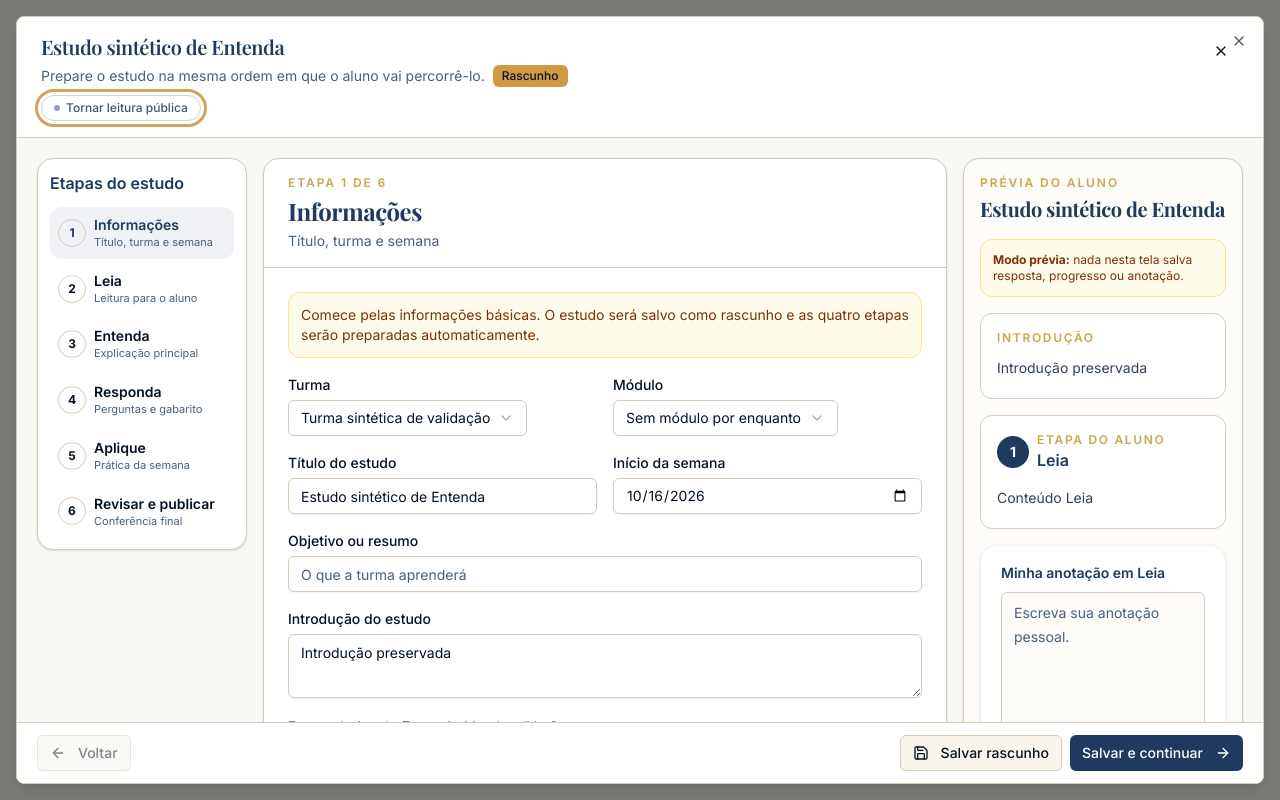
Fase 3 — Entenda e confirmação de salvamento, com API simulada › carrega explicação e reflexão do bloco existente, com personalização secundária recolhida
The width and height of the screenshot is (1280, 800).
Click the button "3 Entenda Explicação principal". click: {"x": 142, "y": 344}
box: [50,318,234,370]
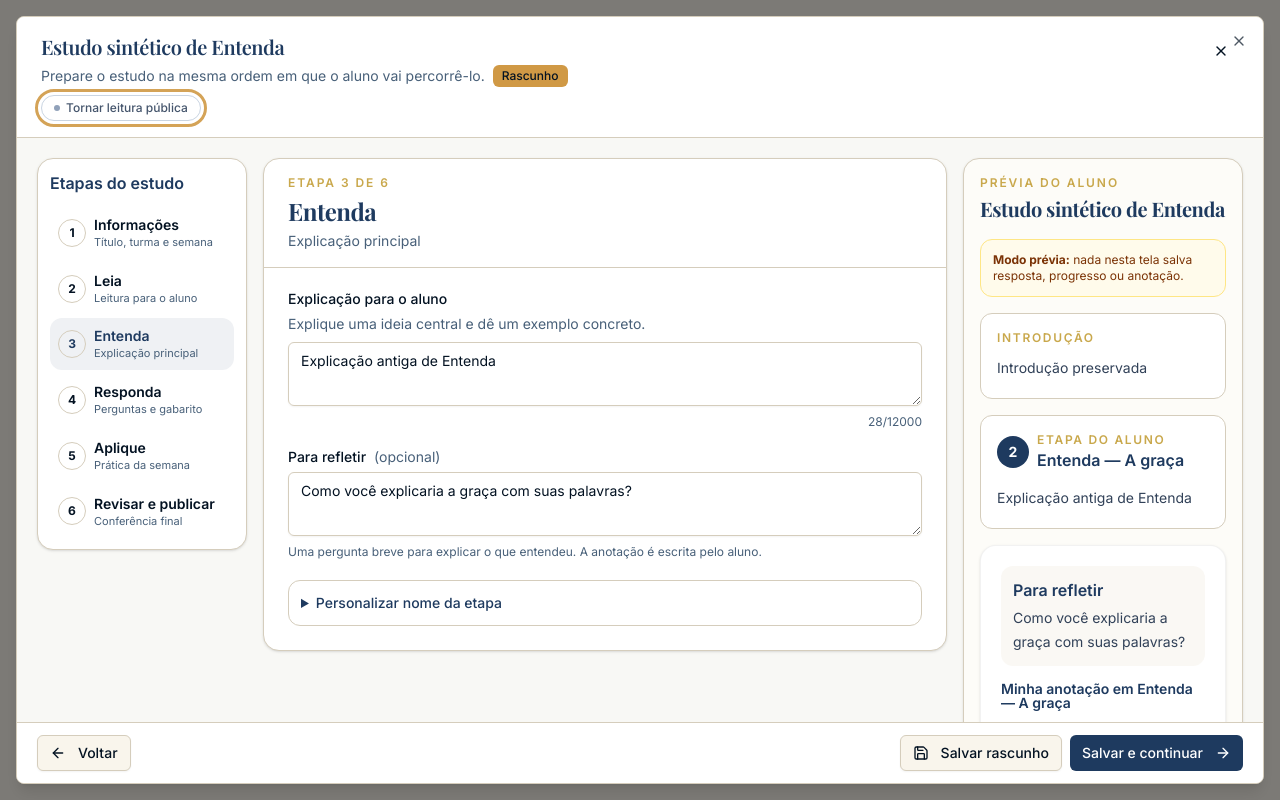
Expected: the text box labelled "Explicação para o aluno" holds "Explicação antiga de Entenda", [288,342,922,406]
Expected: the element labelled "nome da etapa" holds "Entenda — A graça", [288,580,922,626]
Expected: the text box labelled "Para refletir (opcional)" holds "Como você explicaria a graça com suas palavras?", [288,472,922,536]
